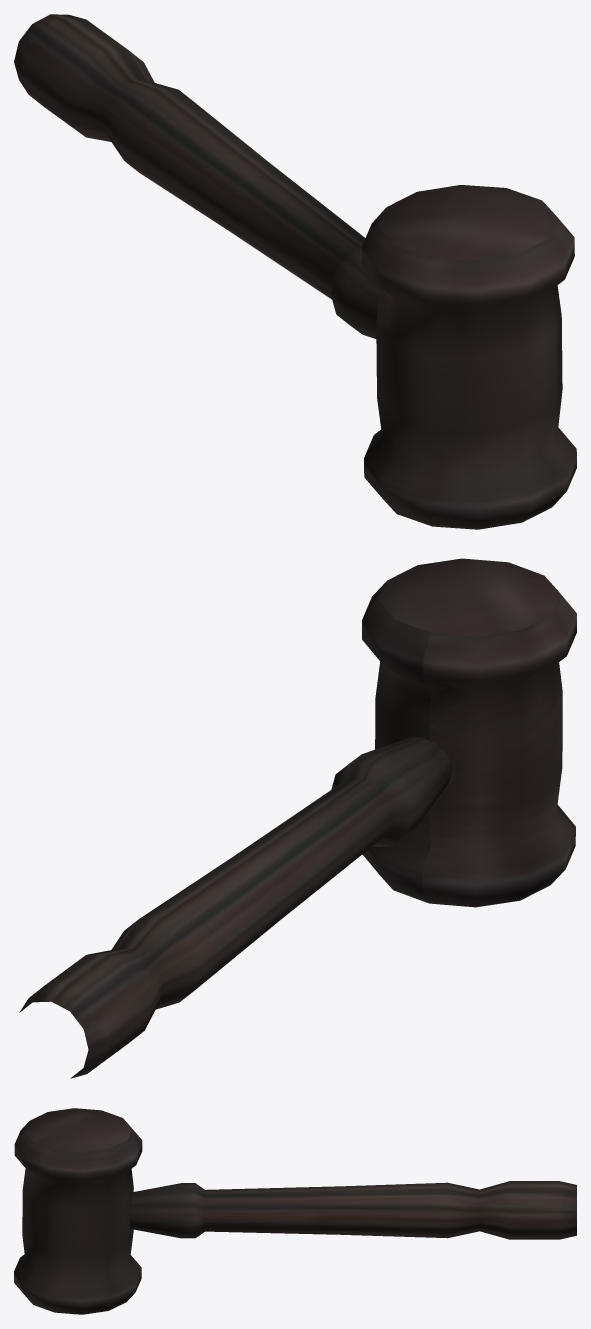
The model's file is lawbot_gavel.glb.
3 views of the same model, one above another, from view 1: azimuth 30°, elevation 25°; view 2: azimuth 150°, elevation 25°; view 3: azimuth 270°, elevation 25° (orthographic). The views are drawn at different scales.
Visible parts, largest first — view 1: top1, handle; view 2: top1, handle; view 3: handle, top1.
Boxes of the visible parts, x1,y1,x2,y2 form: top1: [362, 185, 576, 529]; handle: [14, 14, 380, 338]; top1: [362, 558, 576, 907]; handle: [19, 737, 452, 1078]; handle: [129, 1181, 576, 1239]; top1: [14, 1108, 142, 1314].
Size of the model in its own units: 2.14 by 3.15 by 9.33.
Materials: 1 (1 with a texture image).
